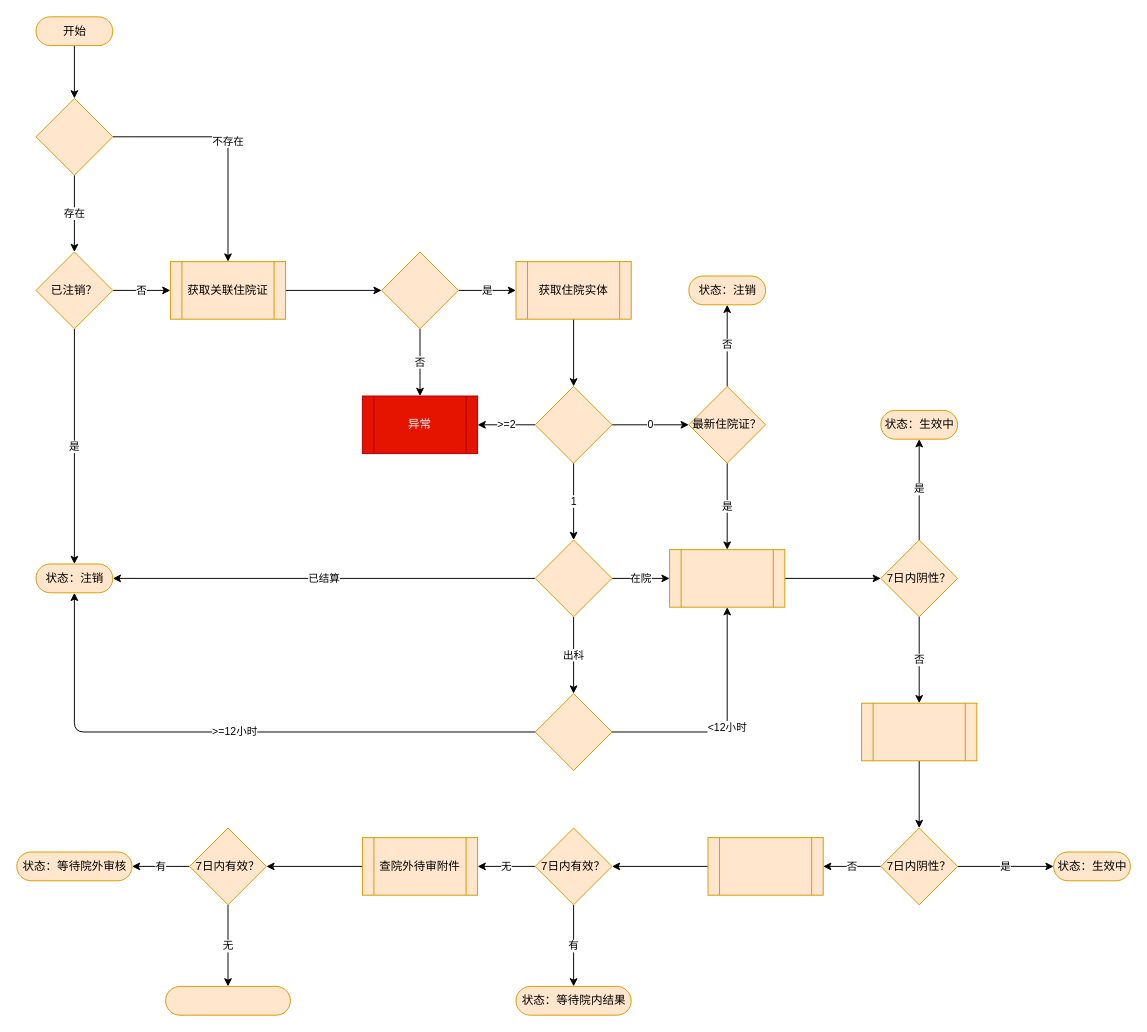
Some shapes in this 1147 by 1032 pixel diagram are drawn without their labels. The centre of each missing label's shape, as x and y in pixels:
"存在？" goes at (419,290).
"实体数量？" goes at (573,424).
"当前状态？" goes at (74,136).
"时长" goes at (573,731).
"查最新核酸记录" goes at (727,578).
"查最新院外报告" goes at (919,731).
"查陪护核酸划价" goes at (765,866).
"状态：无核酸检测结果" goes at (227,1000).
"状态？" goes at (573,578).
